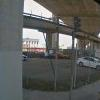Bridge: (20, 0, 95, 53)
